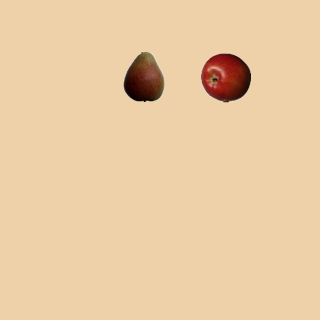Apple Braeburn: (200, 52, 250, 102)
Pear Forelle: (118, 51, 168, 101)
